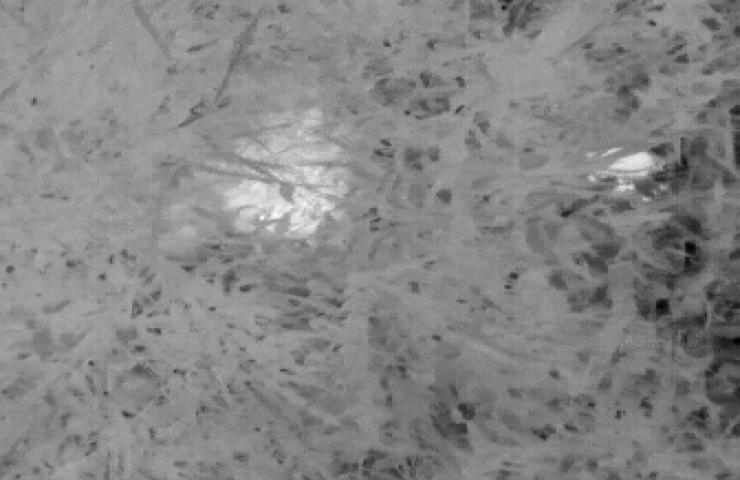landmines: (208, 111, 379, 248)
